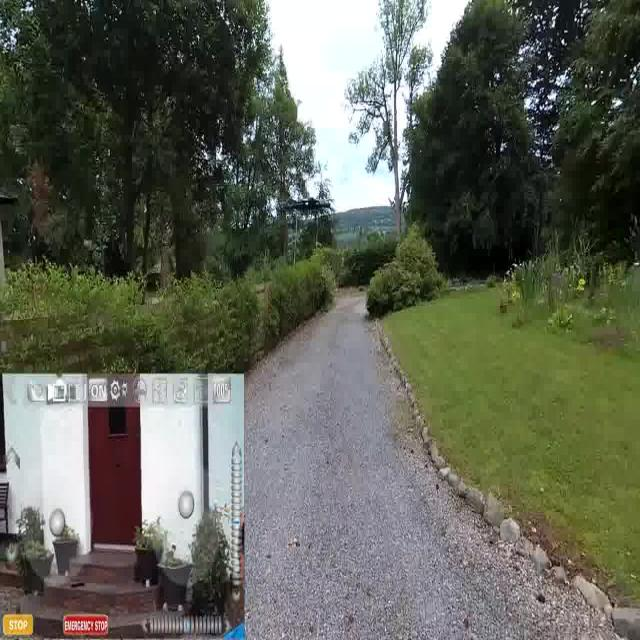drones: (278, 186, 336, 222)
